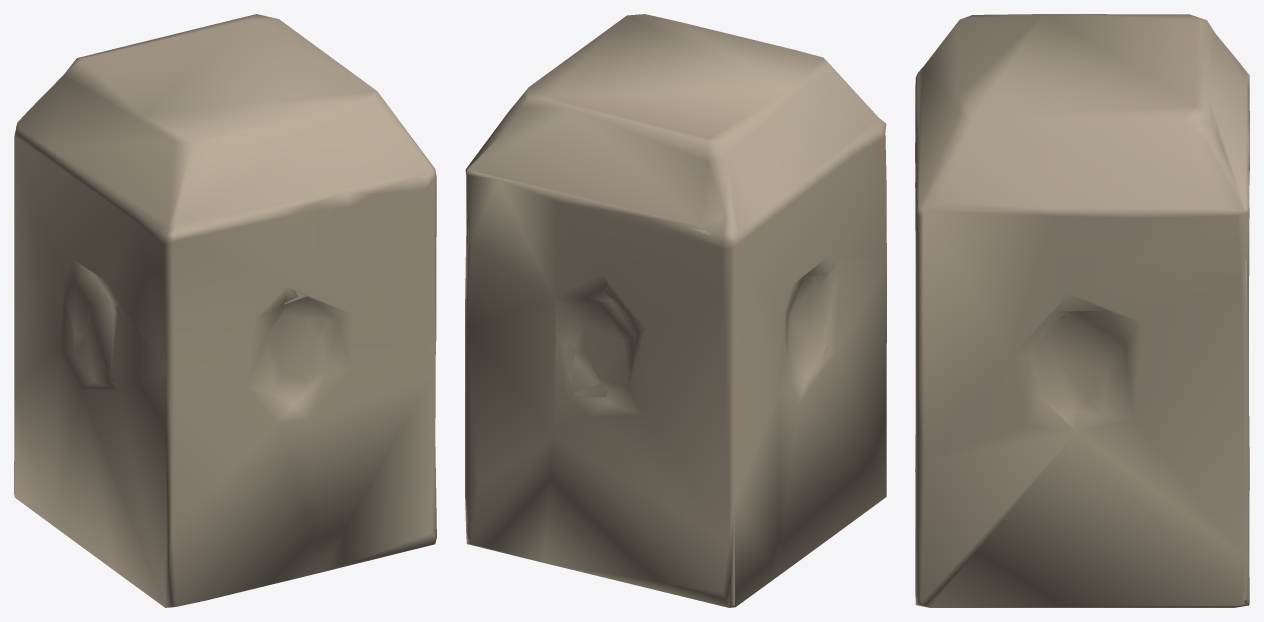
The model's file is gen3d-paper-envelope-lod1.glb.
3 renders of one model, left to right at view 1: azimuth 30°, elevation 25°; view 2: azimuth 150°, elevation 25°; view 3: azimuth 270°, elevation 25°, orthographic. The views are drawn at different scales.
Visible parts, largest first — view 1: part_0; view 2: part_0; view 3: part_0.
Part boxes in pixels (<box>): part_0: <box>14,14,436,607</box>; part_0: <box>465,14,886,607</box>; part_0: <box>915,14,1249,607</box>.
Bounding box in the file's own units: 0.6431 × 1 × 0.6432.
